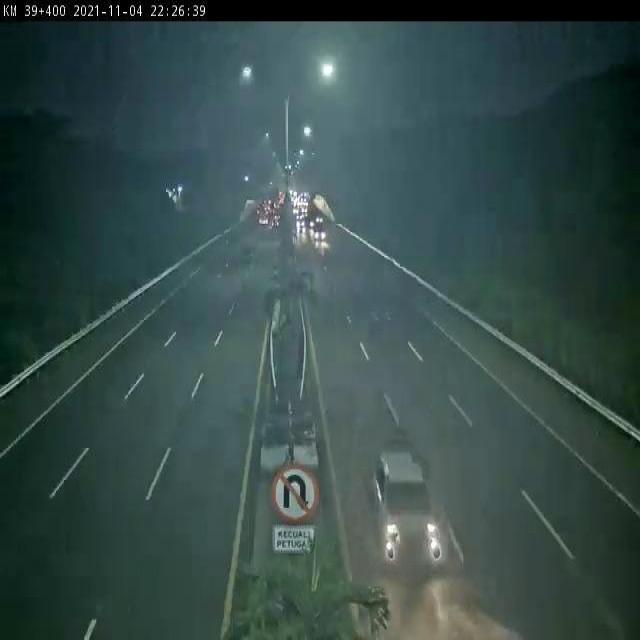car: (360, 454, 449, 594)
